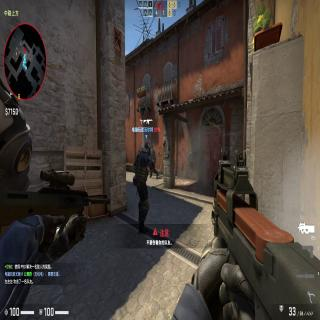CT-Head: (144, 142, 151, 157)
T-Head: (150, 145, 154, 150)
